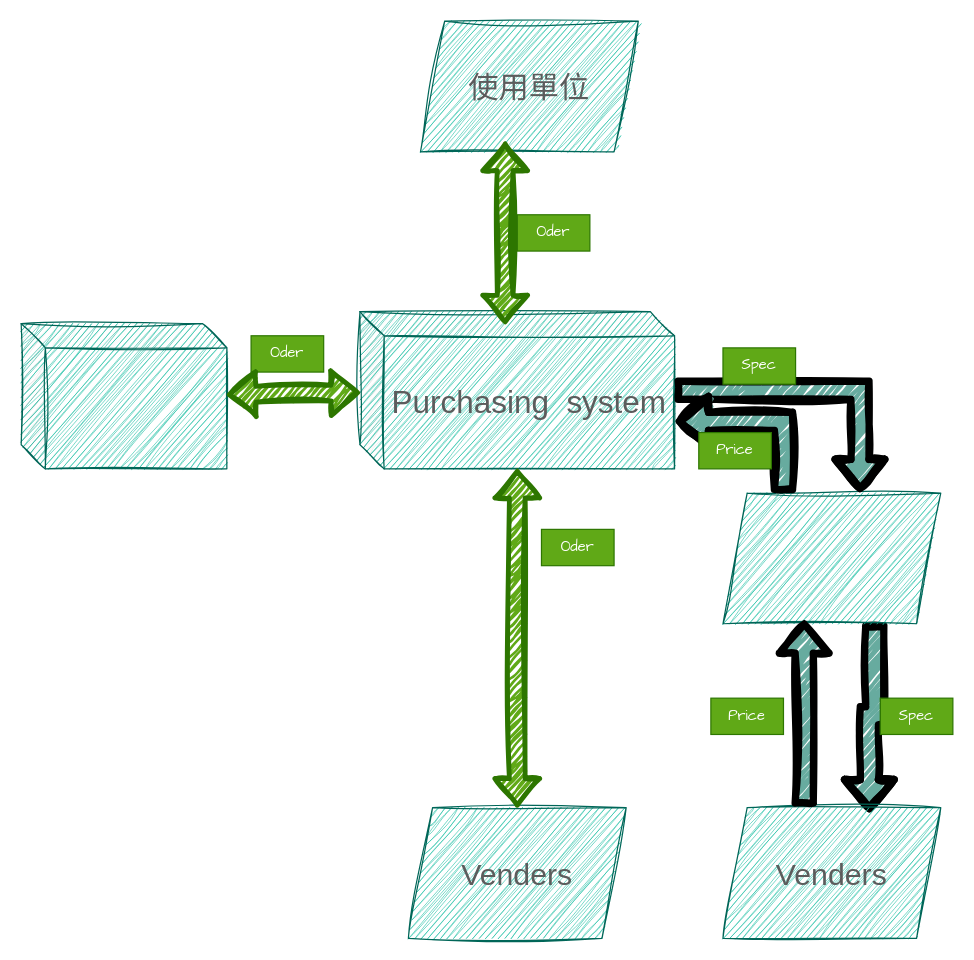
This 974x960 diagram has some shape labels left out. The centre of each missing label's shape, as x and y in pixels:
"Sourcing" goes at pixel 831 558.
"Warehouse" goes at pixel 123 395.
